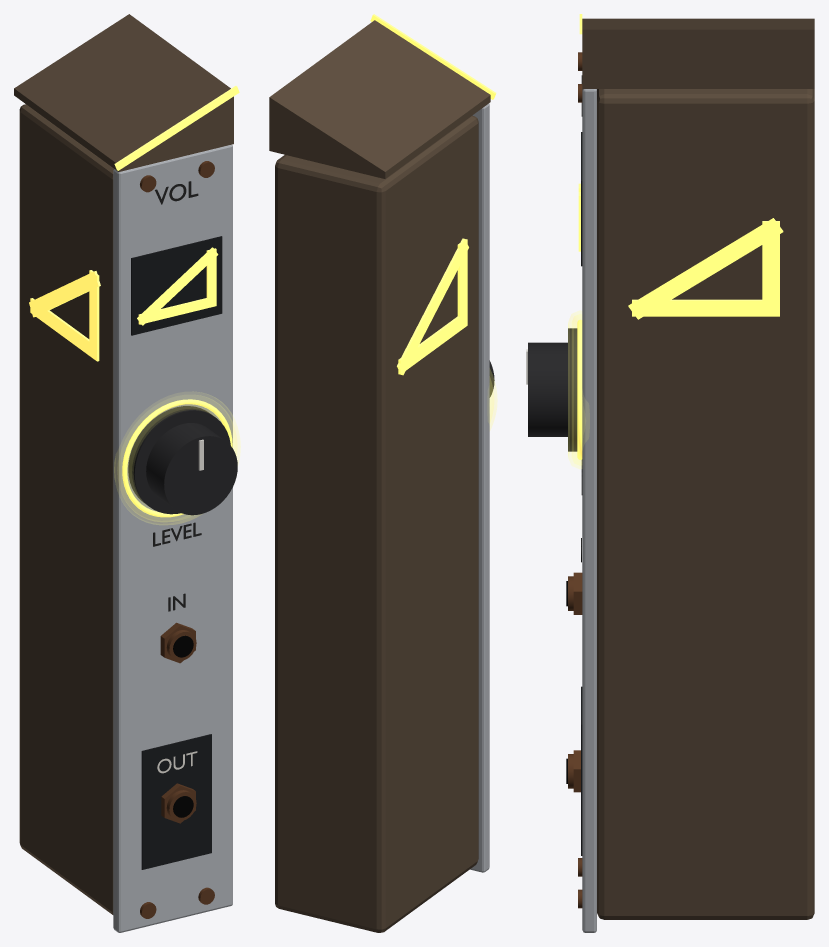
File: volume.glb
3 views of the same model, side by side, from view 1: azimuth 30°, elevation 25°; view 2: azimuth 150°, elevation 25°; view 3: azimuth 270°, elevation 25° (orthographic). The views are drawn at different scales.
Parts seen in each view (by area): view 1: Volume_Body, Volume_Faceplate, Volume_Crown, Volume_OutputPatch, Volume_KnobCap, Volume_GlyphPlate, Volume_KnobSkirt, Volume_SideGlyphL, Volume_Glyph, Volume_LevelRing, Volume_CrownTrace; view 2: Volume_Body, Volume_Crown, Volume_Faceplate, Volume_SideGlyphL, Volume_CrownTrace; view 3: Volume_Body, Volume_Crown, Volume_Faceplate, Volume_SideGlyphR, Volume_KnobCap, Volume_KnobSkirt, Volume_LevelRing, Volume_LevelRingHaloOuter.
Part boxes in pixels (x1,y1,x2,y2): Volume_Body: (19, 104, 113, 914); Volume_Faceplate: (113, 144, 232, 932); Volume_Crown: (14, 14, 233, 171); Volume_OutputPatch: (141, 734, 211, 869); Volume_KnobCap: (146, 423, 237, 515); Volume_GlyphPlate: (131, 236, 222, 335); Volume_KnobSkirt: (128, 406, 230, 514); Volume_SideGlyphL: (29, 270, 100, 361); Volume_Glyph: (137, 247, 218, 325); Volume_LevelRing: (122, 399, 232, 517); Volume_CrownTrace: (114, 86, 239, 170); Volume_Body: (275, 115, 478, 932); Volume_Crown: (269, 20, 490, 178); Volume_Faceplate: (470, 103, 489, 872); Volume_SideGlyphL: (397, 238, 468, 375); Volume_CrownTrace: (370, 14, 496, 99); Volume_Body: (597, 89, 814, 919); Volume_Crown: (582, 18, 814, 88); Volume_Faceplate: (582, 89, 596, 932); Volume_SideGlyphR: (628, 218, 783, 319); Volume_KnobCap: (528, 342, 567, 436); Volume_KnobSkirt: (568, 328, 577, 451); Volume_LevelRing: (577, 319, 582, 459); Volume_LevelRingHaloOuter: (568, 310, 581, 468).
Bounding box in the file's own units: 0.22 × 1.38 × 0.3975.
